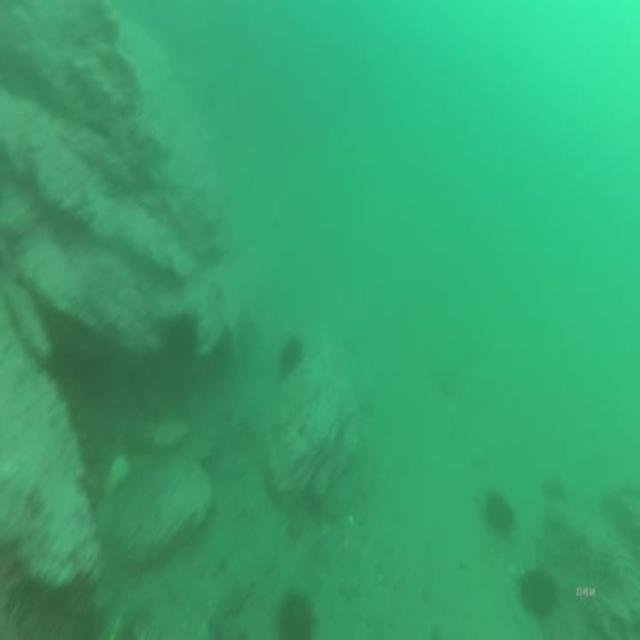echinus: (516, 561, 562, 626), (271, 584, 318, 640), (163, 311, 201, 378), (481, 484, 515, 542), (276, 330, 306, 382)
